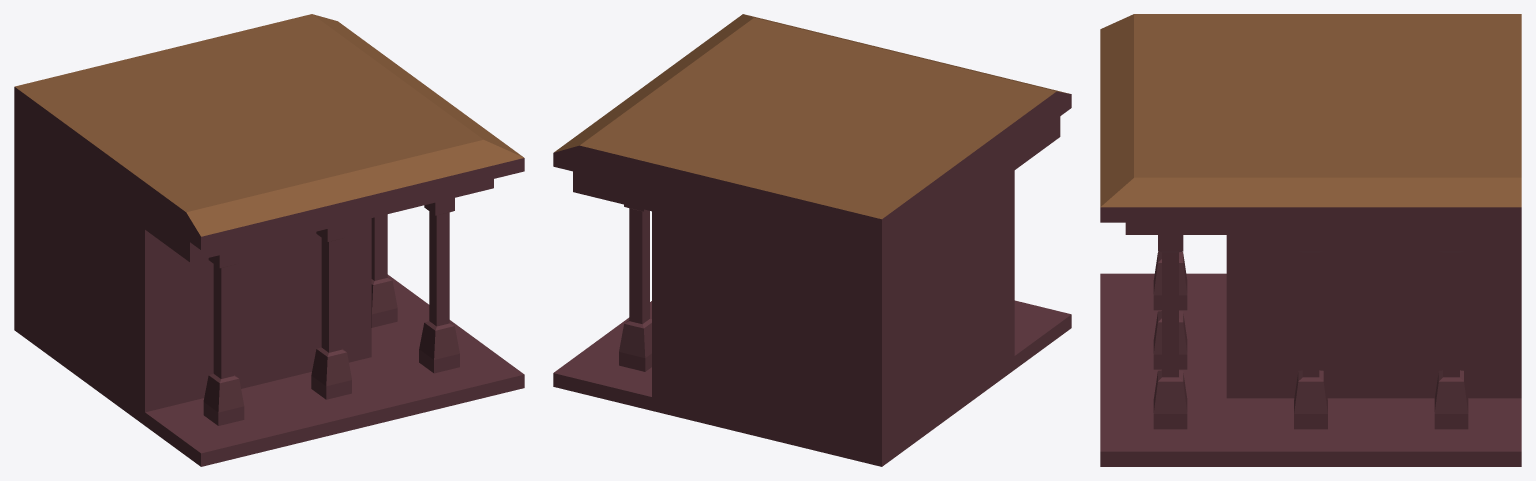
Rendered from hindu-wall-interior-edge.fbx.
3 views of the same model, side by side, from view 1: azimuth 30°, elevation 25°; view 2: azimuth 150°, elevation 25°; view 3: azimuth 270°, elevation 25° (orthographic). The views are drawn at different scales.
Visible parts, largest first — view 1: hindu-wall-interior-edge; view 2: hindu-wall-interior-edge; view 3: hindu-wall-interior-edge.
Boxes of the visible parts, x1,y1,x2,y2 form: hindu-wall-interior-edge: (14,14,524,466); hindu-wall-interior-edge: (553,14,1071,466); hindu-wall-interior-edge: (1100,14,1521,466).
Size of the model in its own units: 5 by 3.6 by 5.
